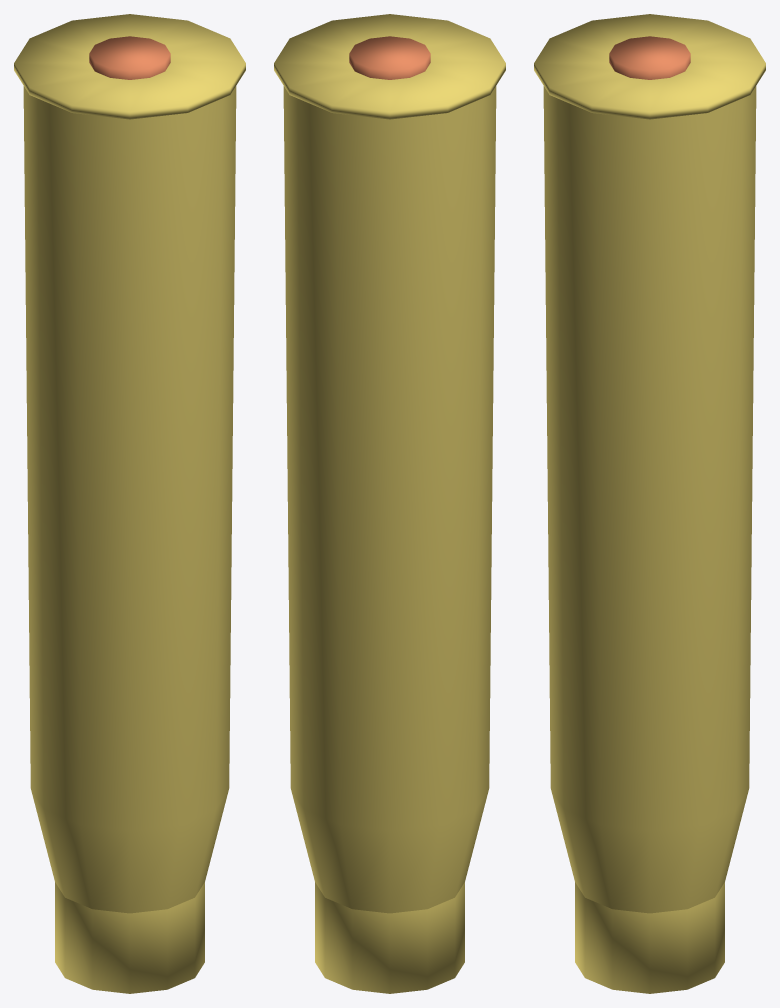
The model's file is casing.glb.
3 renders of one model, left to right at view 1: azimuth 30°, elevation 25°; view 2: azimuth 150°, elevation 25°; view 3: azimuth 270°, elevation 25°, orthographic.
Parts seen in each view (by area): view 1: shell.073; view 2: shell.073; view 3: shell.073.
Part boxes in pixels (bbox=[...]): shell.073: bbox=[14, 14, 245, 993]; shell.073: bbox=[274, 14, 505, 993]; shell.073: bbox=[534, 14, 765, 993].
Size of the model in its own units: 0.1183 by 0.5119 by 0.1183.
